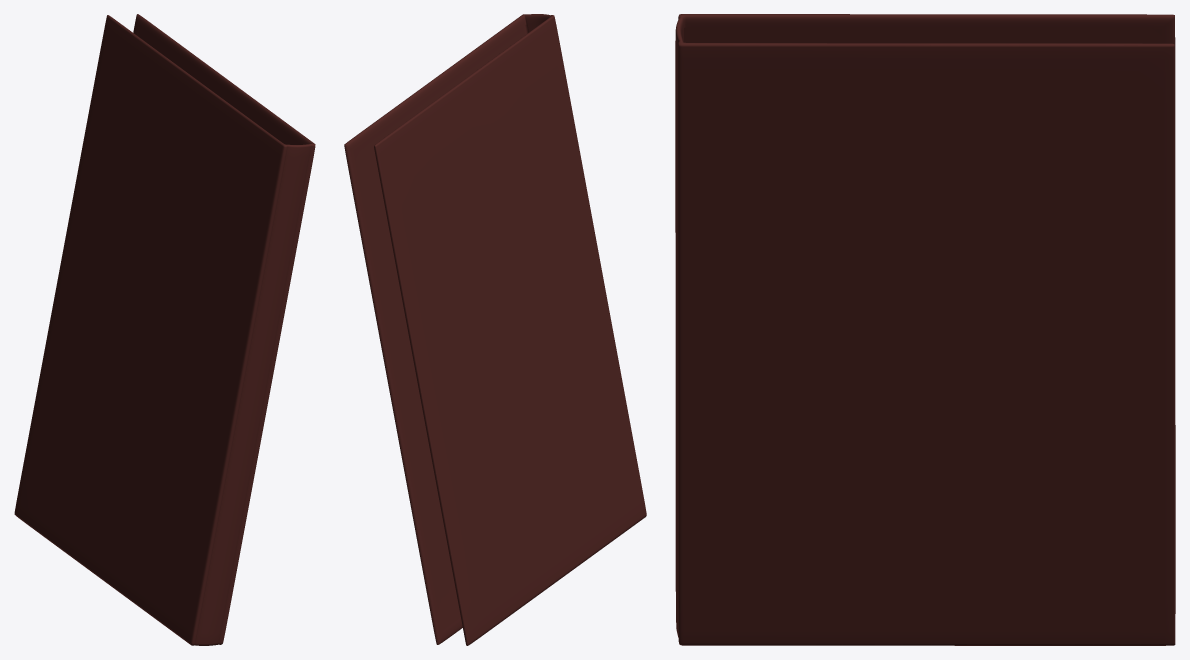
The model's file is object_139_lev1.glb.
3 views of the same model, side by side, from view 1: azimuth 30°, elevation 25°; view 2: azimuth 150°, elevation 25°; view 3: azimuth 270°, elevation 25° (orthographic). The views are drawn at different scales.
Visible parts, largest first — view 1: object_139_lev1; view 2: object_139_lev1; view 3: object_139_lev1.
Boxes of the visible parts, x1,y1,x2,y2 form: object_139_lev1: (14, 14, 315, 645); object_139_lev1: (344, 14, 646, 645); object_139_lev1: (675, 14, 1175, 645).
Bounding box in the file's own units: 0.0663 × 0.2458 × 0.1653.
